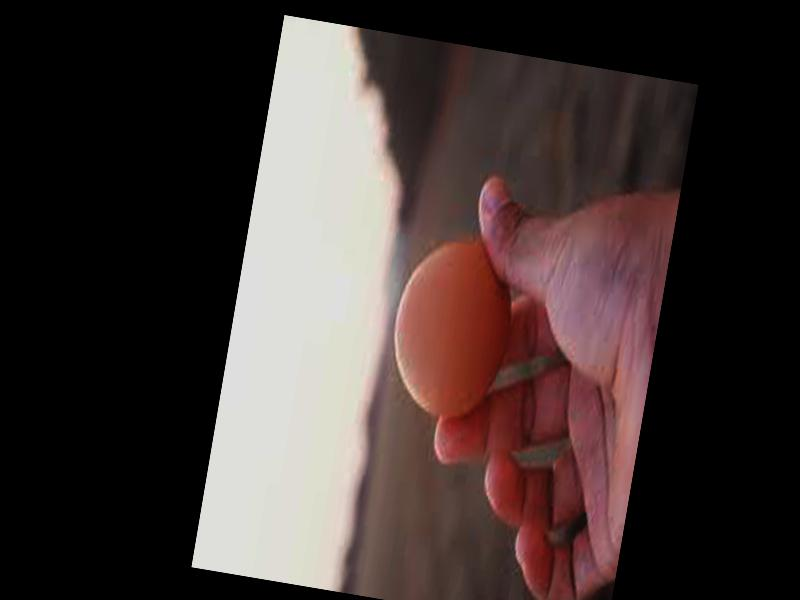Eggs: (381, 232, 520, 425)
